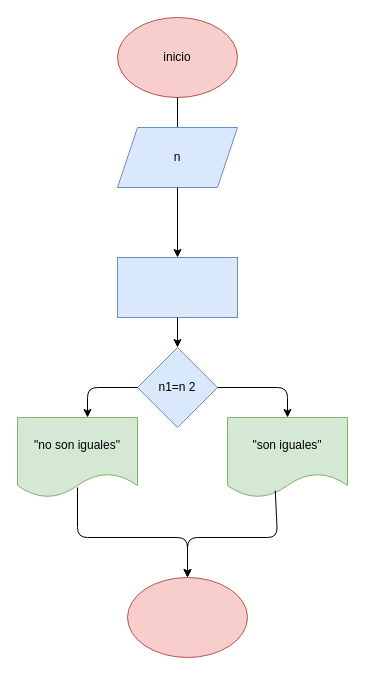
Some shapes in this 365 by 675 pixel diagram are drawn without their labels. The box of each missing label's shape, as (x1, y1, x2, y2) in pixels:
fin: (126, 576, 248, 658)
n1 = (n/100) %10 n2 = (n-1000) %10: (116, 256, 238, 318)
